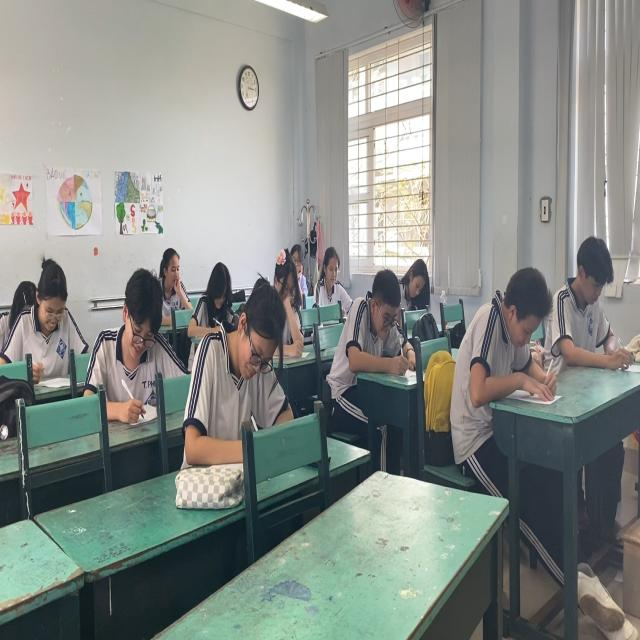not_cheating: (460, 272, 544, 406), (89, 268, 172, 392), (220, 286, 288, 430), (544, 243, 619, 367), (19, 261, 90, 364), (345, 272, 404, 368), (268, 240, 303, 347), (192, 261, 230, 333), (155, 233, 190, 309), (320, 254, 353, 312), (402, 258, 429, 302)
